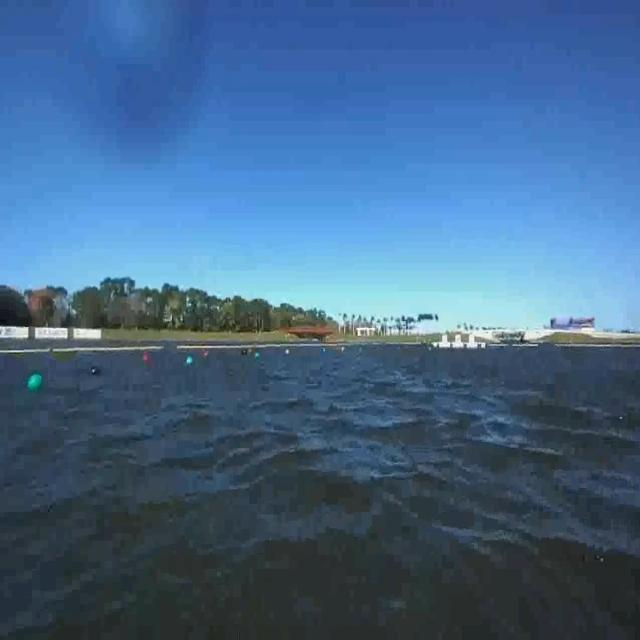green-buoy: (27, 373, 42, 388)
